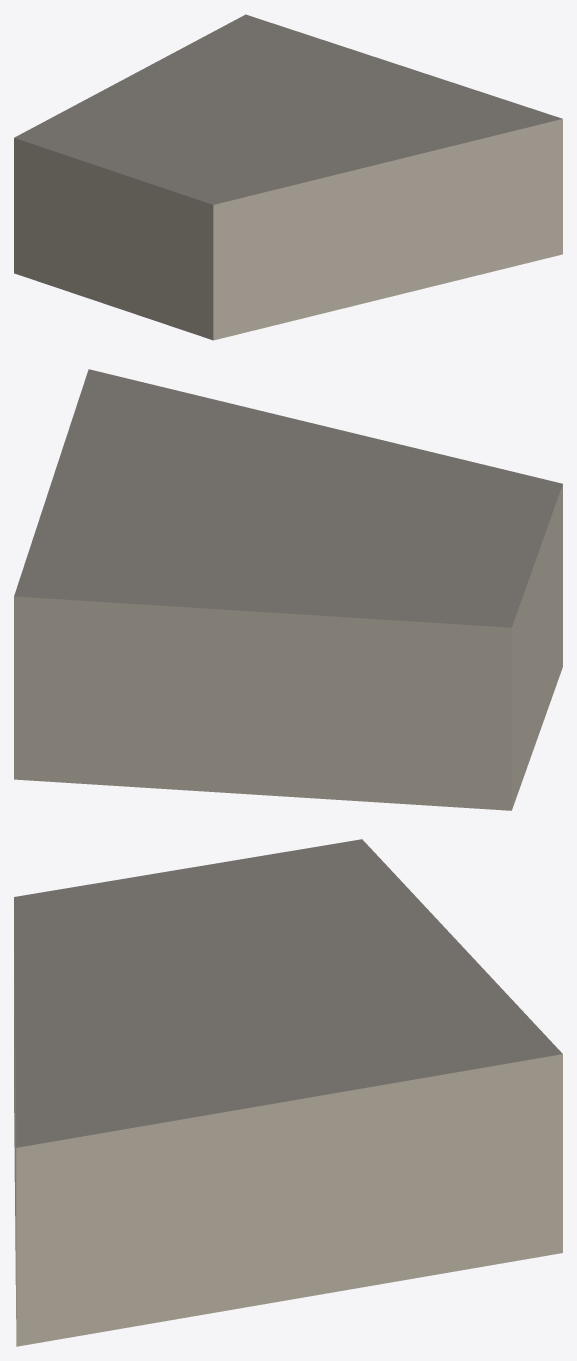
3 views of the same model, one above another, from view 1: azimuth 30°, elevation 25°; view 2: azimuth 150°, elevation 25°; view 3: azimuth 270°, elevation 25° (orthographic). The views are drawn at different scales.
Parts seen in each view (by area): view 1: HP-w1544735762; view 2: HP-w1544735762; view 3: HP-w1544735762.
Part boxes in pixels (x1,y1,x2,y2): HP-w1544735762: [14, 14, 562, 340]; HP-w1544735762: [14, 369, 562, 810]; HP-w1544735762: [14, 839, 562, 1346].
Size of the model in its own units: 59.91 by 18 by 45.03.
